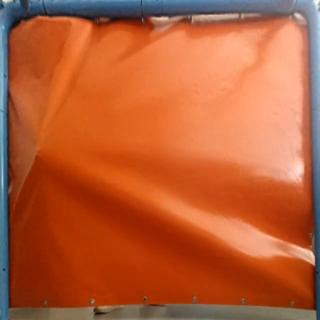Hit-hRxx: (32, 151, 42, 161)
